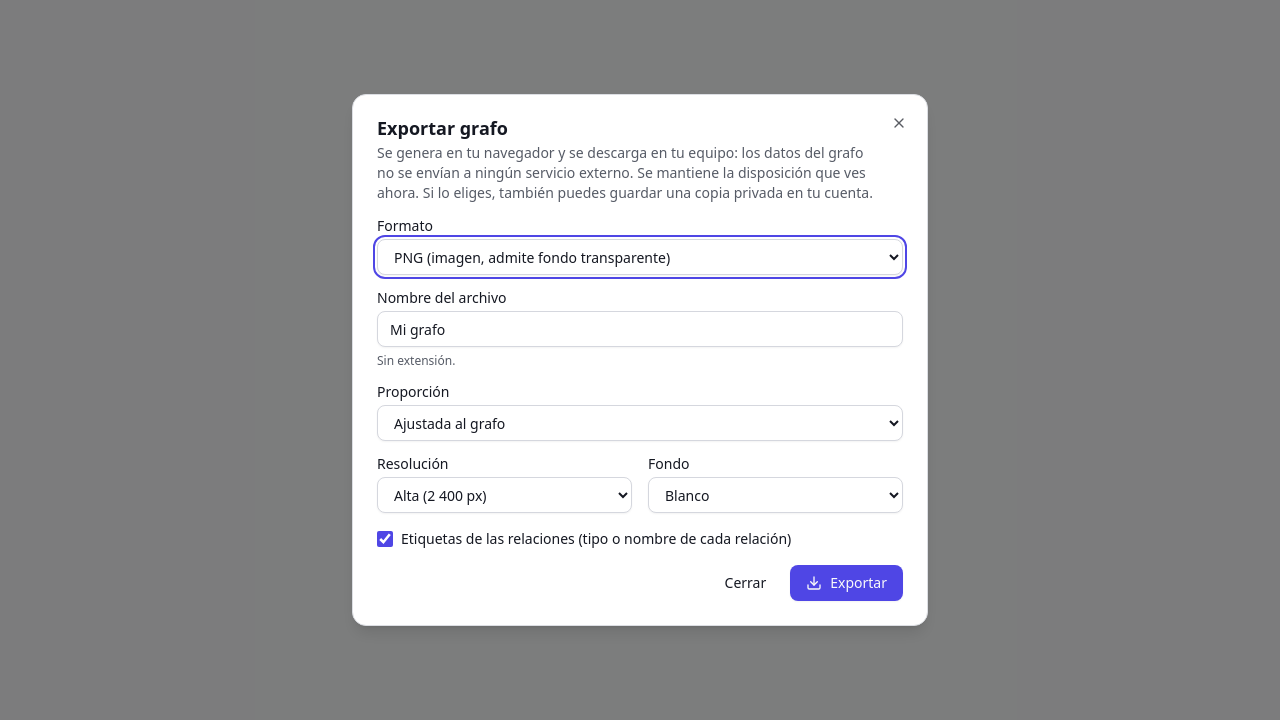
Test case: ExportDialog › PowerPoint editable no se ofrece para un grafo demasiado grande
Select "PowerPoint editable (formas y líneas)" in the dropdown labelled "Formato" at (640, 257), box [377,239,903,275]
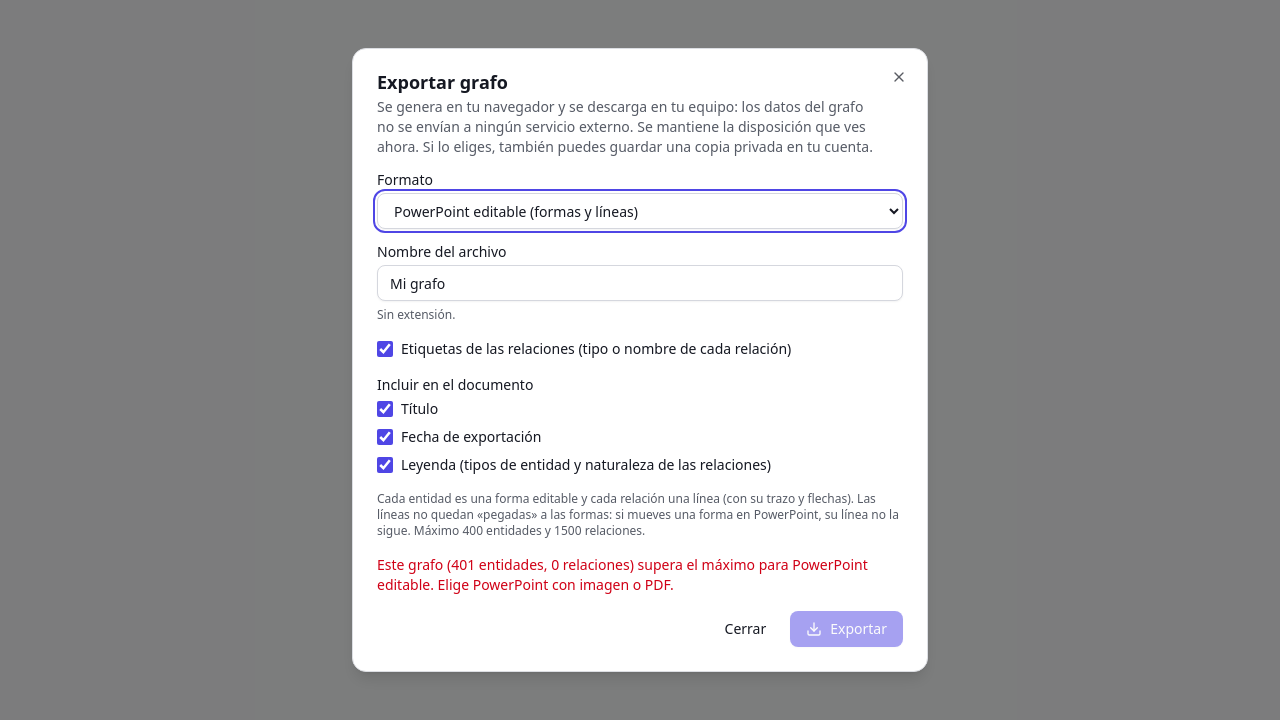
Expected: the button "Exportar" is disabled, [790,611,903,647]
Expected: the message shows "supera el máximo", [377,555,868,594]
